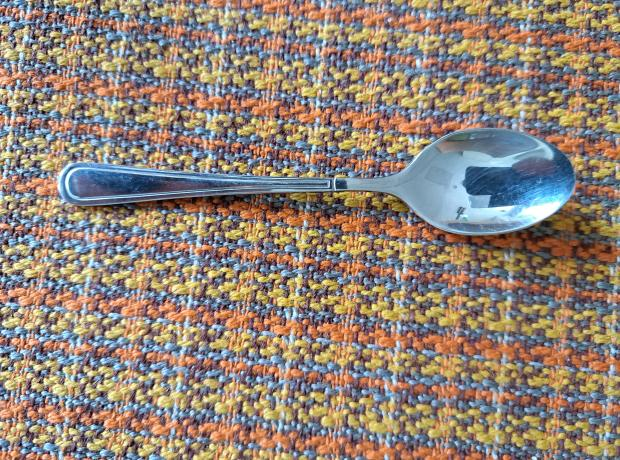metal: (57, 127, 585, 239)
